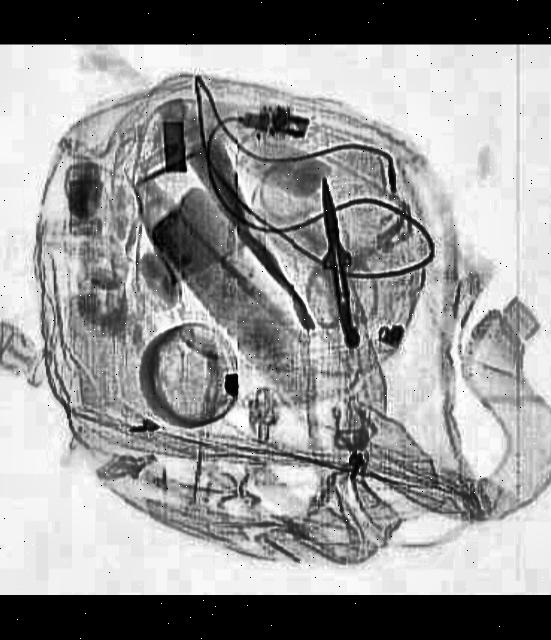Knife: (310, 173, 364, 330)
